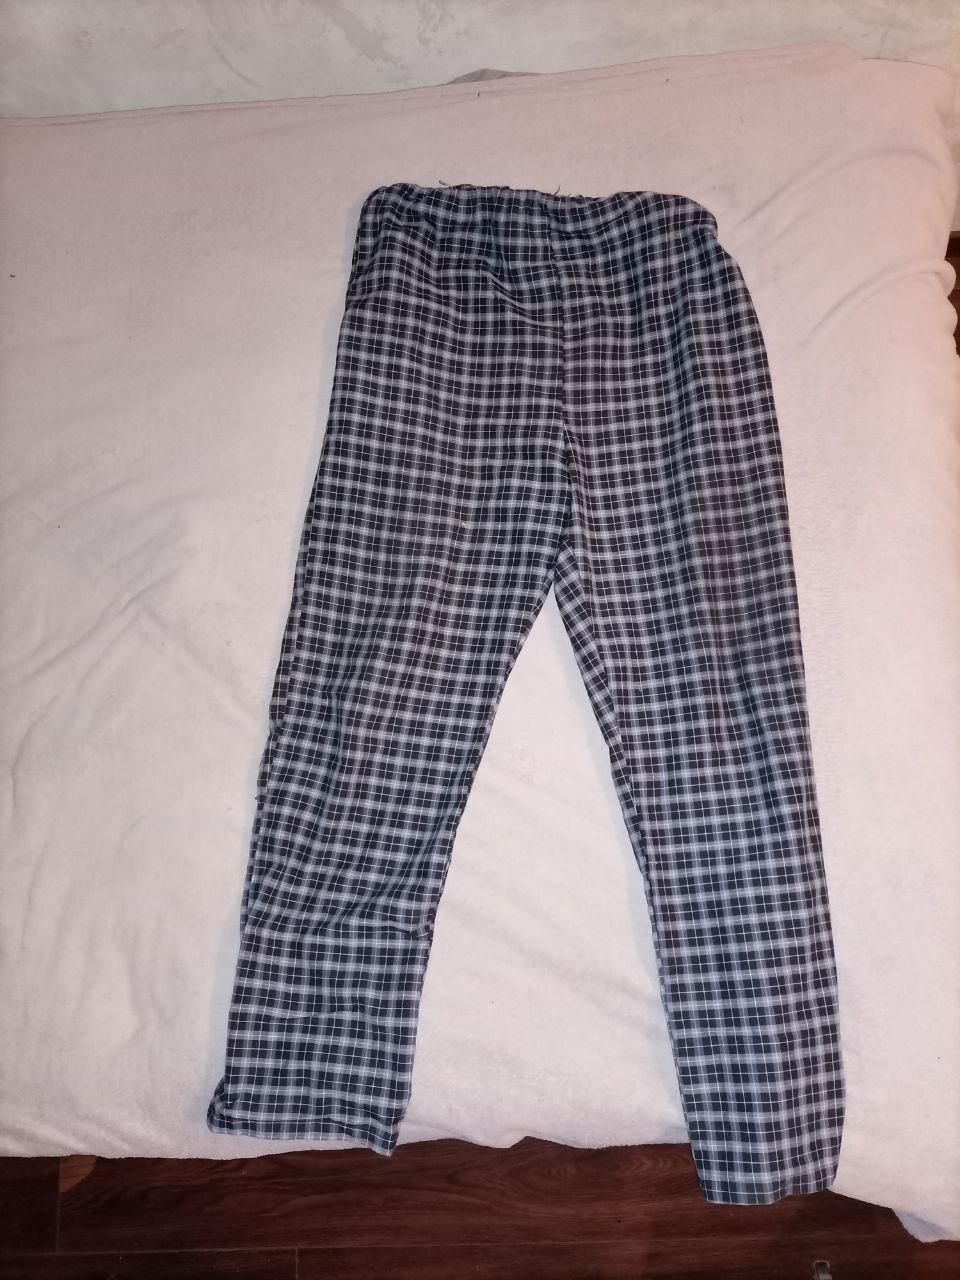clothes: (179, 175, 868, 1209)
